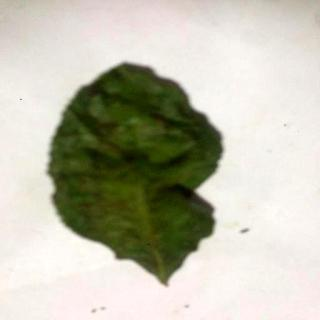Red Leaf Spot: (51, 64, 218, 286)
